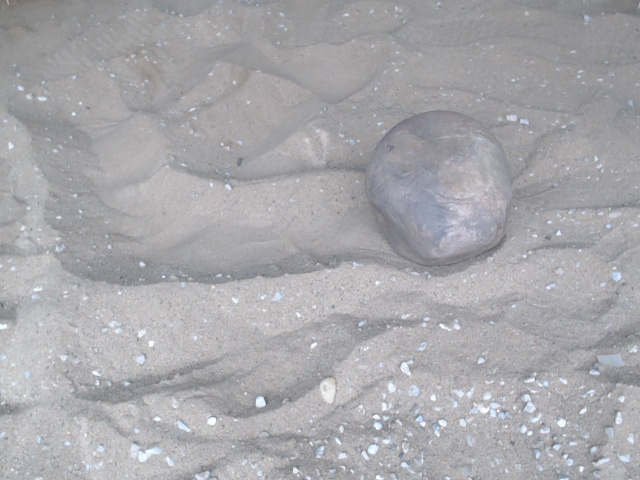rock: (358, 101, 522, 274)
